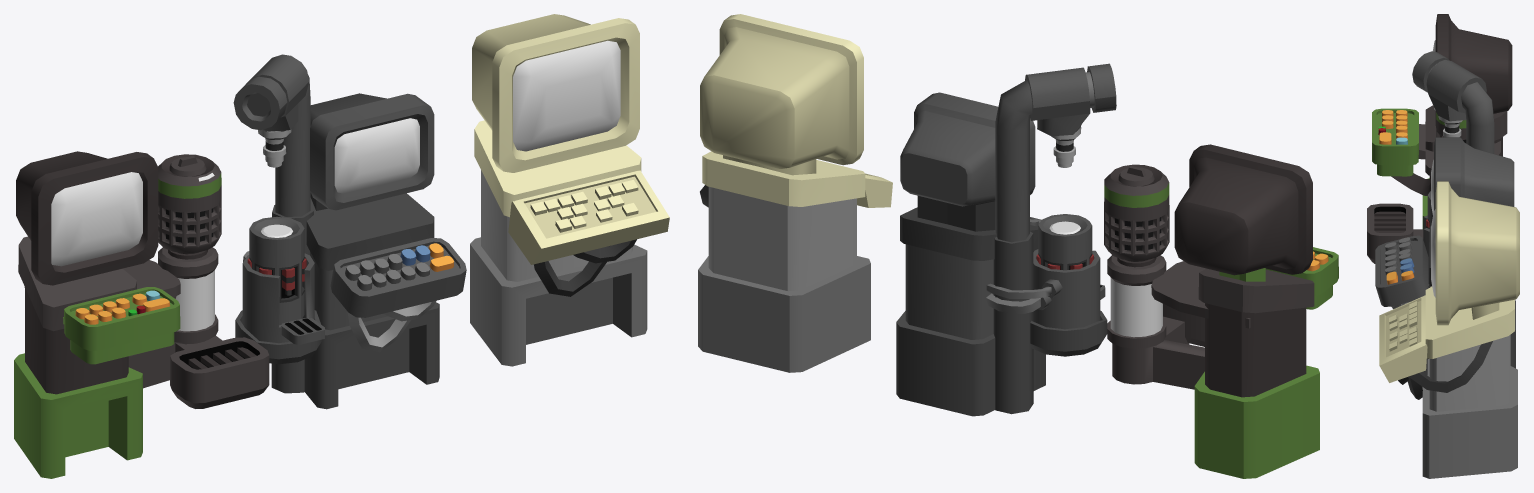
Rendered from Computer.fbx.
3 renders of one model, left to right at view 1: azimuth 30°, elevation 25°; view 2: azimuth 150°, elevation 25°; view 3: azimuth 270°, elevation 25°, orthographic. The views are drawn at different scales.
Parts seen in each view (by area): view 1: Computer, Seed Extractor, PANDEMIC3000, Seed Extractor.Wheel, PANDEMIC3000.Beaker; view 2: Computer, PANDEMIC3000, Seed Extractor, Seed Extractor.Wheel, PANDEMIC3000.Beaker; view 3: Computer, PANDEMIC3000, Seed Extractor, Seed Extractor.Wheel, PANDEMIC3000.Beaker.
Boxes of the visible parts, box(x1,y1,x2,y2) form: Computer: box(470, 14, 669, 366); Seed Extractor: box(14, 151, 269, 478); PANDEMIC3000: box(233, 54, 466, 409); Seed Extractor.Wheel: box(158, 154, 221, 254); PANDEMIC3000.Beaker: box(247, 216, 306, 324); Computer: box(698, 14, 892, 372); PANDEMIC3000: box(896, 63, 1116, 416); Seed Extractor: box(1107, 144, 1338, 478); Seed Extractor.Wheel: box(1104, 164, 1169, 261); PANDEMIC3000.Beaker: box(1036, 214, 1093, 270); Computer: box(1379, 181, 1519, 478); PANDEMIC3000: box(1375, 51, 1515, 368); Seed Extractor: box(1367, 14, 1512, 263); Seed Extractor.Wheel: box(1436, 112, 1466, 142); PANDEMIC3000.Beaker: box(1426, 191, 1432, 228).
Bounding box in the file's own units: 2.91 × 1.55 × 0.7867.
